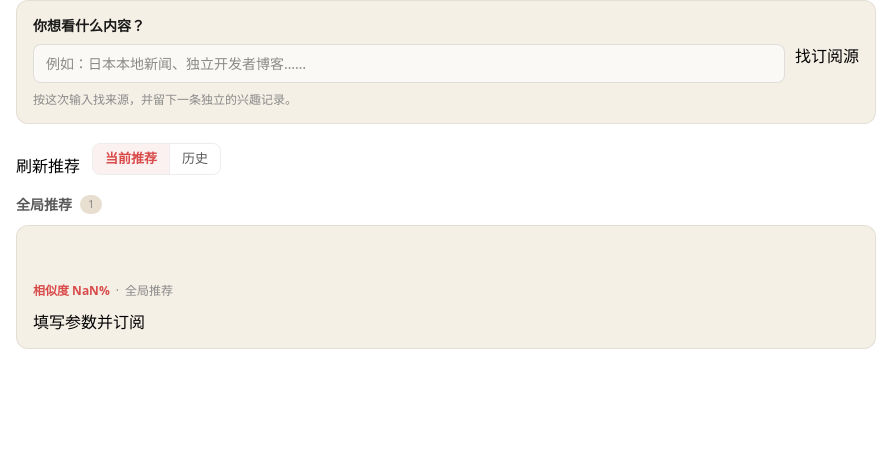
Test: DiscoveryPanel — 查询流状态机（S1） › 轮询超时（2s×60）转失败并提示手动刷新（design D2）
Type "量子计算" into the field labelled "你想看什么内容？".
click(409, 64); type("量子计算")  # box [33,44,785,83]
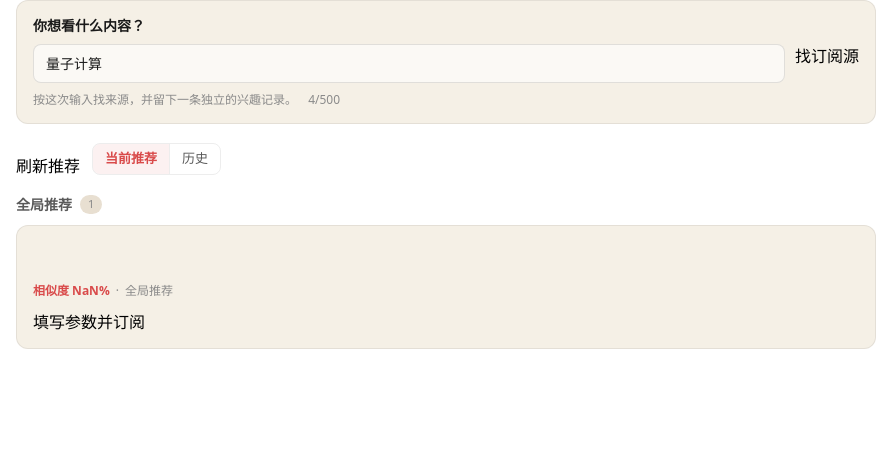
Submit the form with test id "discovery-query-form", box [16,0,876,124]
Wait 122000 ms
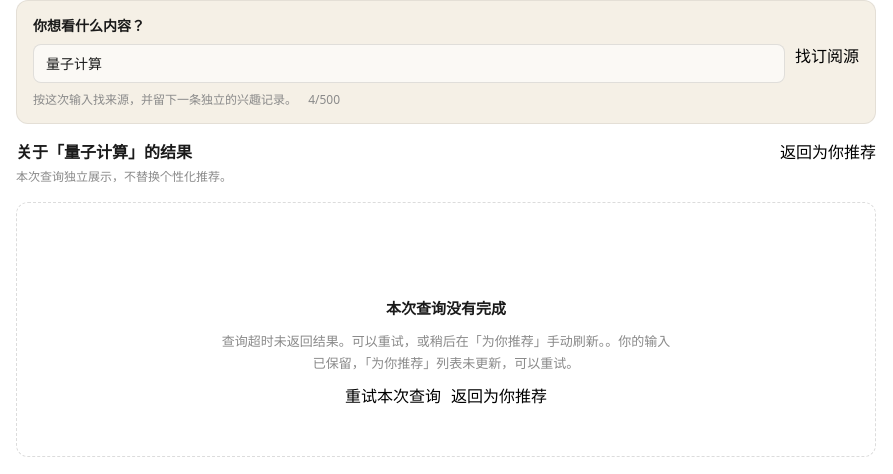
Expected: the element with test id "discovery-run-failed" is shown, [16,202,876,457]
Expected: the element with test id "discovery-run-failed" shows "手动刷新", [222,332,670,372]
